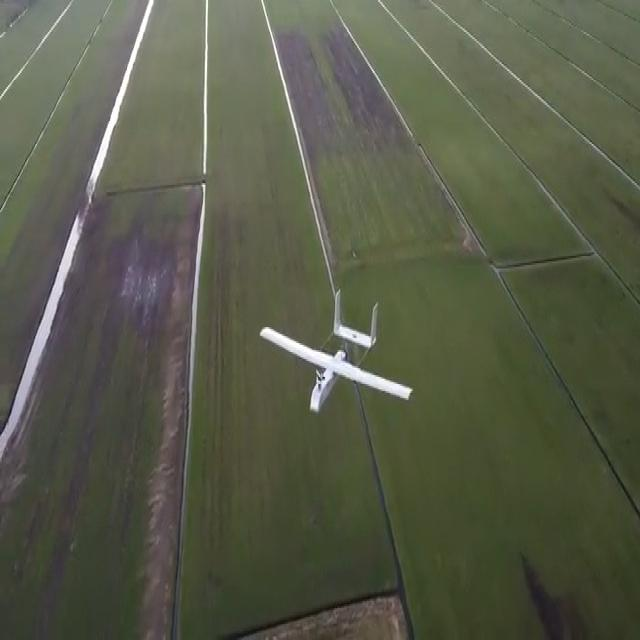drones: (251, 296, 414, 434)
